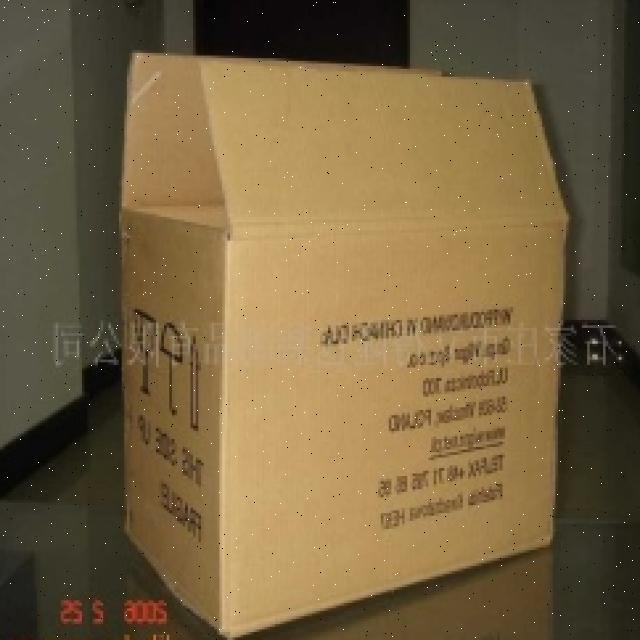box: (80, 46, 574, 634)
